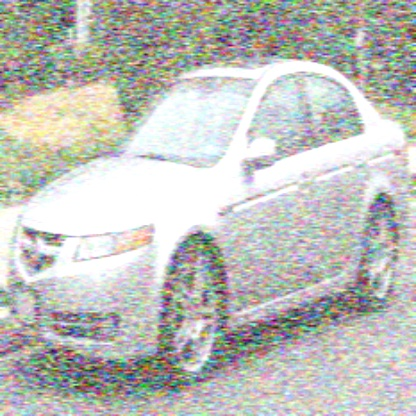Vehicle: (7, 55, 412, 388)
